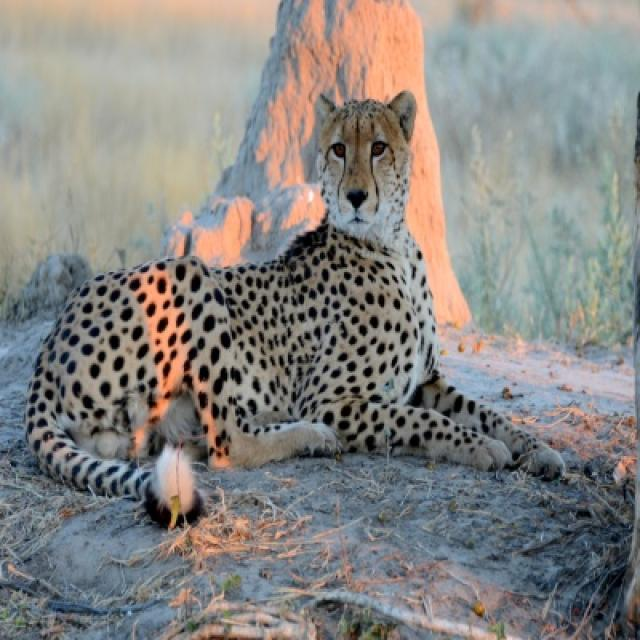Cheetah: (26, 91, 560, 523)
